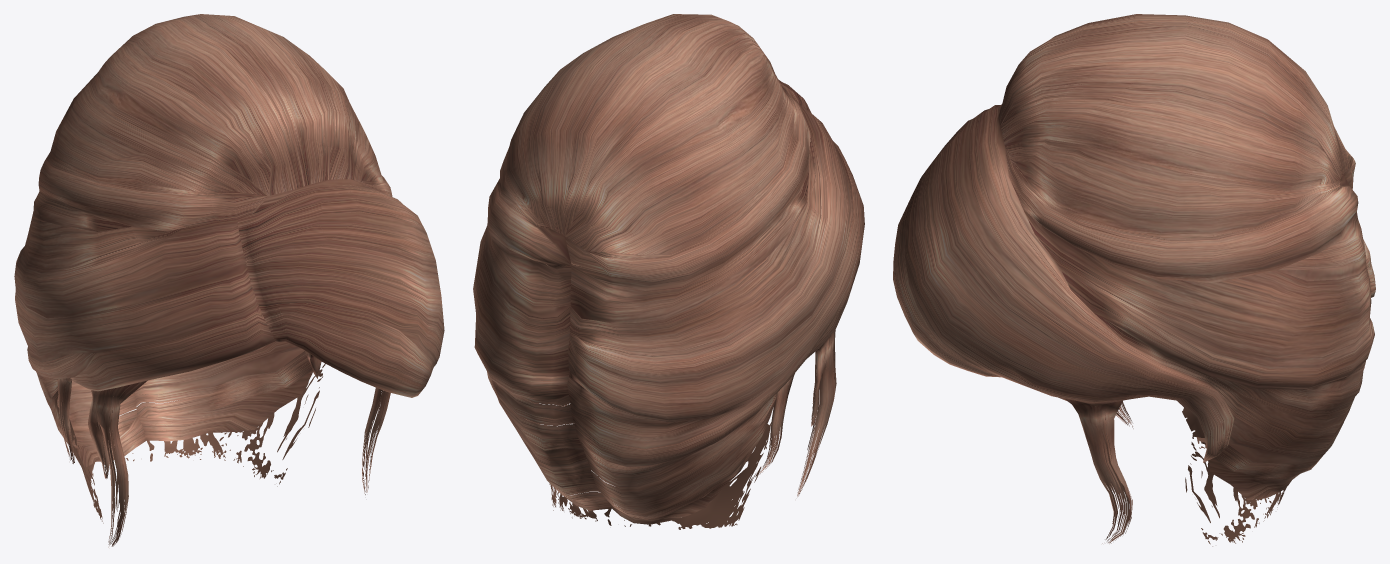
The model's file is mh_elvs_50s_updo.glb.
3 renders of one model, left to right at view 1: azimuth 30°, elevation 25°; view 2: azimuth 150°, elevation 25°; view 3: azimuth 270°, elevation 25°, orthographic. The views are drawn at different scales.
Visible parts, largest first — view 1: mh_elvs_50s_updo; view 2: mh_elvs_50s_updo; view 3: mh_elvs_50s_updo.
Boxes of the visible parts, bbox=[...] form: mh_elvs_50s_updo: bbox=[14, 14, 444, 547]; mh_elvs_50s_updo: bbox=[473, 14, 864, 529]; mh_elvs_50s_updo: bbox=[893, 14, 1375, 546].
Bounding box in the file's own units: 0.1852 × 0.269 × 0.242.
1 material, 1 textured.
